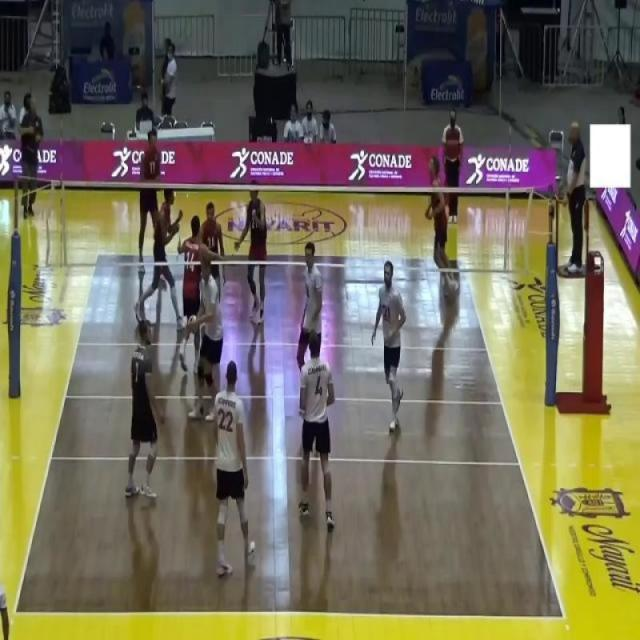volleyball: (188, 314, 198, 334)
